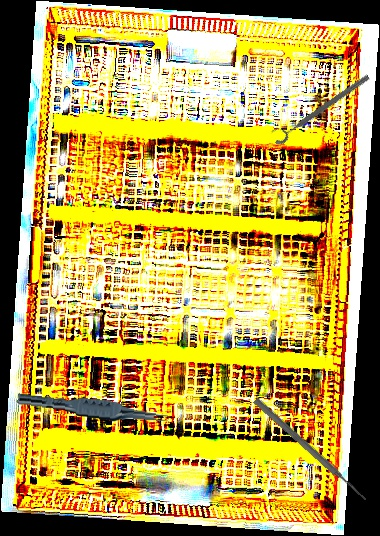Fixation Ring: (268, 66, 372, 148)
Pusher: (251, 396, 370, 504)
Tissue Forceps: (16, 392, 171, 427)
